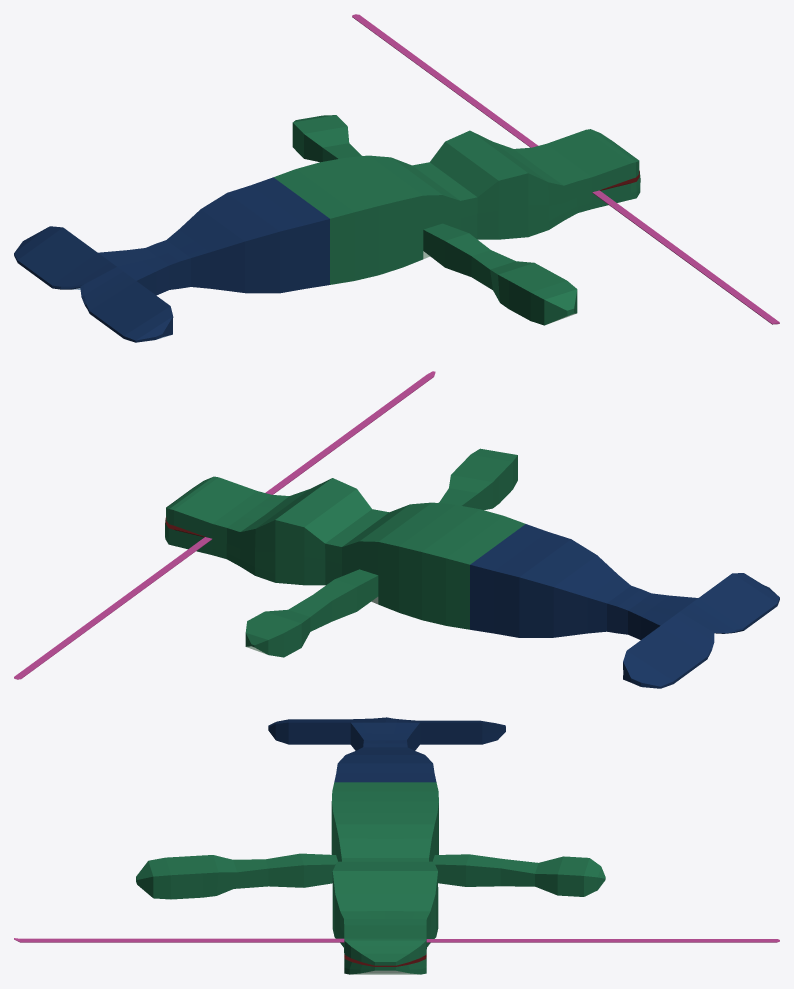
Rendered from Lizard.fbx.
3 renders of one model, top to bottom at view 1: azimuth 30°, elevation 25°; view 2: azimuth 150°, elevation 25°; view 3: azimuth 270°, elevation 25°, orthographic. The views are drawn at different scales.
Parts seen in each view (by area): view 1: Cube; view 2: Cube; view 3: Cube.
Boxes of the visible parts, x1=… form: Cube: x1=14, y1=14, x2=779, y2=342; Cube: x1=14, y1=371, x2=779, y2=688; Cube: x1=14, y1=717, x2=779, y2=974.
Size of the model in its own units: 2206 by 260 by 2891.
